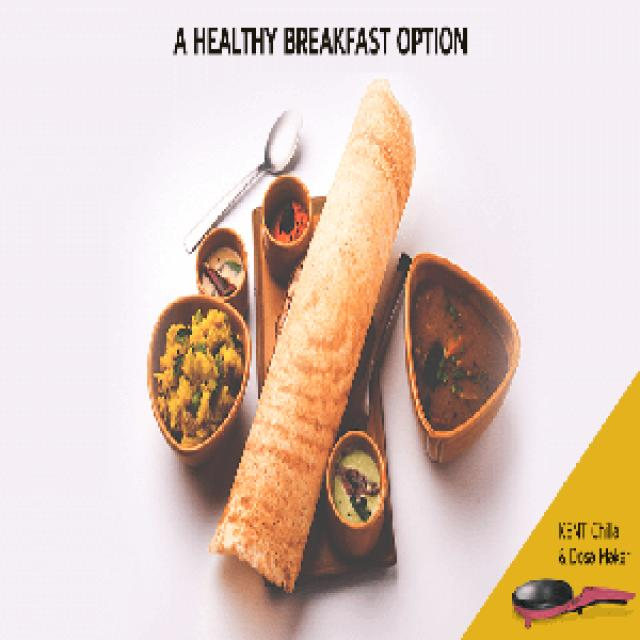dosa: (206, 50, 428, 602)
